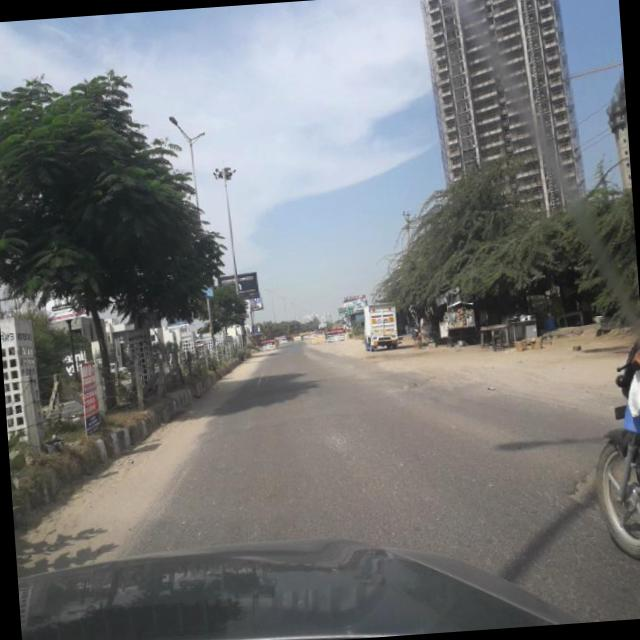crack: (308, 421, 596, 594)
pothole: (387, 366, 479, 406)
